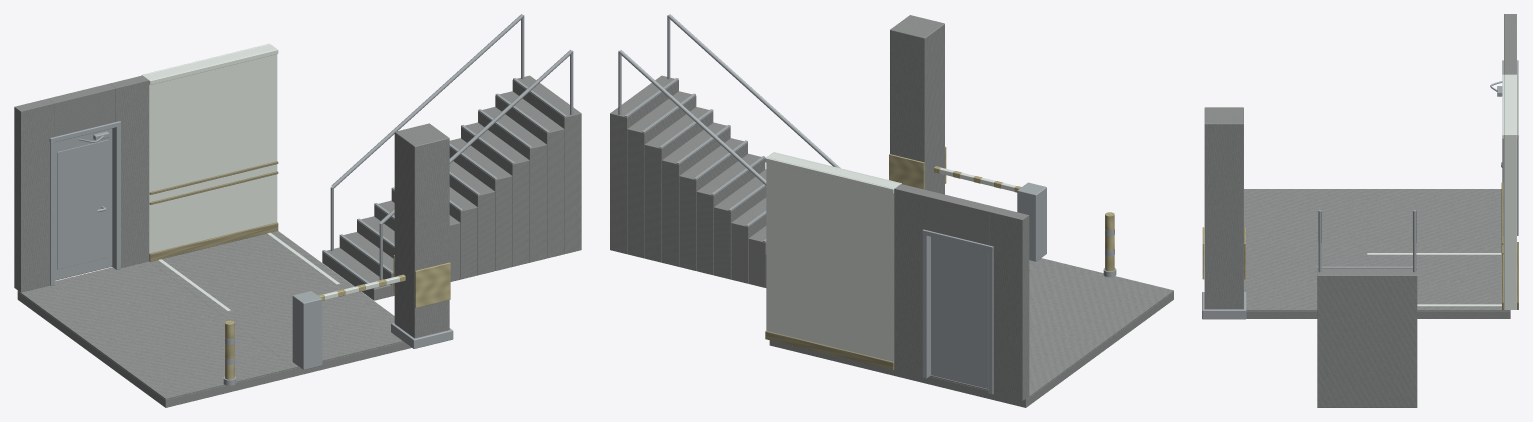
File: liminal-spaces-kit-garage-stairwell-f8abafc9__25338.glb
3 renders of one model, left to right at view 1: azimuth 30°, elevation 25°; view 2: azimuth 150°, elevation 25°; view 3: azimuth 270°, elevation 25°, orthographic. The views are drawn at different scales.
Parts seen in each view (by area): view 1: 004-stairwell-flight/0, 006-hotel-corridor-wall/0, 005-fire-door/0, 002-parking-floor/0, 007-parking-pillar/0, 000-parking-floor/0, 001-parking-line-tile/0, 005-fire-door/door (×2), 003-parking-floor/0, 004-stairwell-flight/1, 005-fire-door/1, 008-ticket-barrier/0 (+4 smaller); view 2: 004-stairwell-flight/0, 006-hotel-corridor-wall/0, 005-fire-door/0, 002-parking-floor/0, 007-parking-pillar/0, 005-fire-door/door, 000-parking-floor/0, 004-stairwell-flight/1, 005-fire-door/1, 008-ticket-barrier/0, 006-hotel-corridor-wall/1, 007-parking-pillar/1 (+1 smaller); view 3: 004-stairwell-flight/0, 000-parking-floor/0, 007-parking-pillar/0, 002-parking-floor/0, 001-parking-line-tile/0, 003-parking-floor/0, 006-hotel-corridor-wall/0, 004-stairwell-flight/1, 005-fire-door/0, 007-parking-pillar/2, 001-parking-line-tile/1, 005-fire-door/1 (+1 smaller).
Part boxes in pixels (left/top/right/bottom): 004-stairwell-flight/0: left=322, top=75, right=581, bottom=300; 006-hotel-corridor-wall/0: left=141, top=43, right=278, bottom=260; 005-fire-door/0: left=14, top=75, right=148, bottom=292; 002-parking-floor/0: left=91, top=313, right=293, bottom=407; 007-parking-pillar/0: left=394, top=123, right=449, bottom=338; 000-parking-floor/0: left=17, top=261, right=219, bottom=353; 001-parking-line-tile/0: left=149, top=231, right=347, bottom=312; 005-fire-door/door (×2): left=55, top=128, right=112, bottom=280; 003-parking-floor/0: left=220, top=282, right=411, bottom=376; 004-stairwell-flight/1: left=322, top=14, right=573, bottom=289; 005-fire-door/1: left=49, top=121, right=120, bottom=285; 008-ticket-barrier/0: left=292, top=291, right=322, bottom=369; 004-stairwell-flight/0: left=610, top=75, right=766, bottom=287; 006-hotel-corridor-wall/0: left=765, top=152, right=901, bottom=361; 005-fire-door/0: left=894, top=184, right=1029, bottom=400; 002-parking-floor/0: left=1029, top=259, right=1173, bottom=353; 007-parking-pillar/0: left=890, top=15, right=944, bottom=194; 005-fire-door/door: left=931, top=236, right=988, bottom=388; 000-parking-floor/0: left=897, top=327, right=1099, bottom=407; 004-stairwell-flight/1: left=618, top=14, right=840, bottom=242; 005-fire-door/1: left=922, top=229, right=993, bottom=394; 008-ticket-barrier/0: left=1017, top=182, right=1046, bottom=261; 006-hotel-corridor-wall/1: left=765, top=331, right=894, bottom=370; 007-parking-pillar/1: left=889, top=146, right=946, bottom=189; 004-stairwell-flight/0: left=1317, top=268, right=1417, bottom=407; 000-parking-floor/0: left=1367, top=189, right=1503, bottom=249; 007-parking-pillar/0: left=1204, top=107, right=1243, bottom=309; 002-parking-floor/0: left=1244, top=189, right=1367, bottom=249; 001-parking-line-tile/0: left=1367, top=249, right=1510, bottom=318; 003-parking-floor/0: left=1244, top=249, right=1367, bottom=318; 006-hotel-corridor-wall/0: left=1502, top=74, right=1518, bottom=309; 004-stairwell-flight/1: left=1317, top=210, right=1417, bottom=272; 005-fire-door/0: left=1504, top=14, right=1516, bottom=74; 007-parking-pillar/2: left=1202, top=292, right=1246, bottom=319; 001-parking-line-tile/1: left=1367, top=253, right=1501, bottom=306; 005-fire-door/1: left=1490, top=60, right=1518, bottom=235.
Bounding box in the file's own units: 7.24 × 3.14 × 4.43.
Materials: 5 (3 with a texture image).
